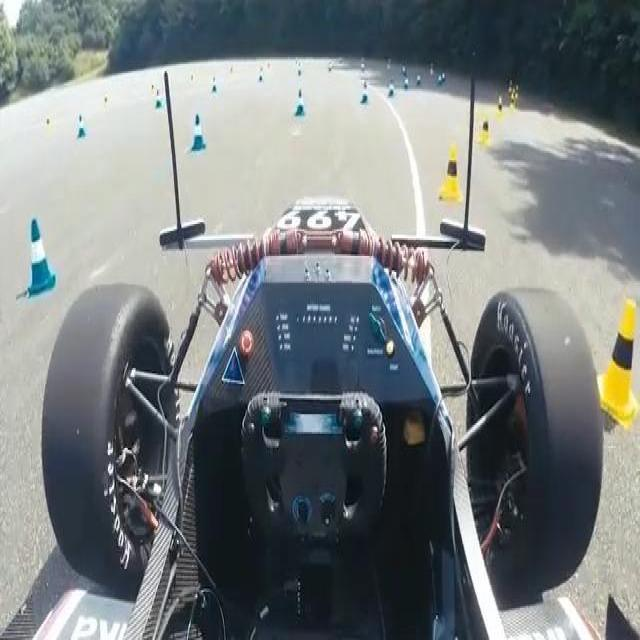blue_cone: (28, 219, 58, 299), (192, 114, 207, 154), (294, 87, 307, 117), (360, 82, 370, 105), (77, 114, 86, 139), (154, 89, 162, 110)
yellow_cone: (589, 297, 640, 427), (437, 142, 463, 201), (476, 112, 493, 148)
